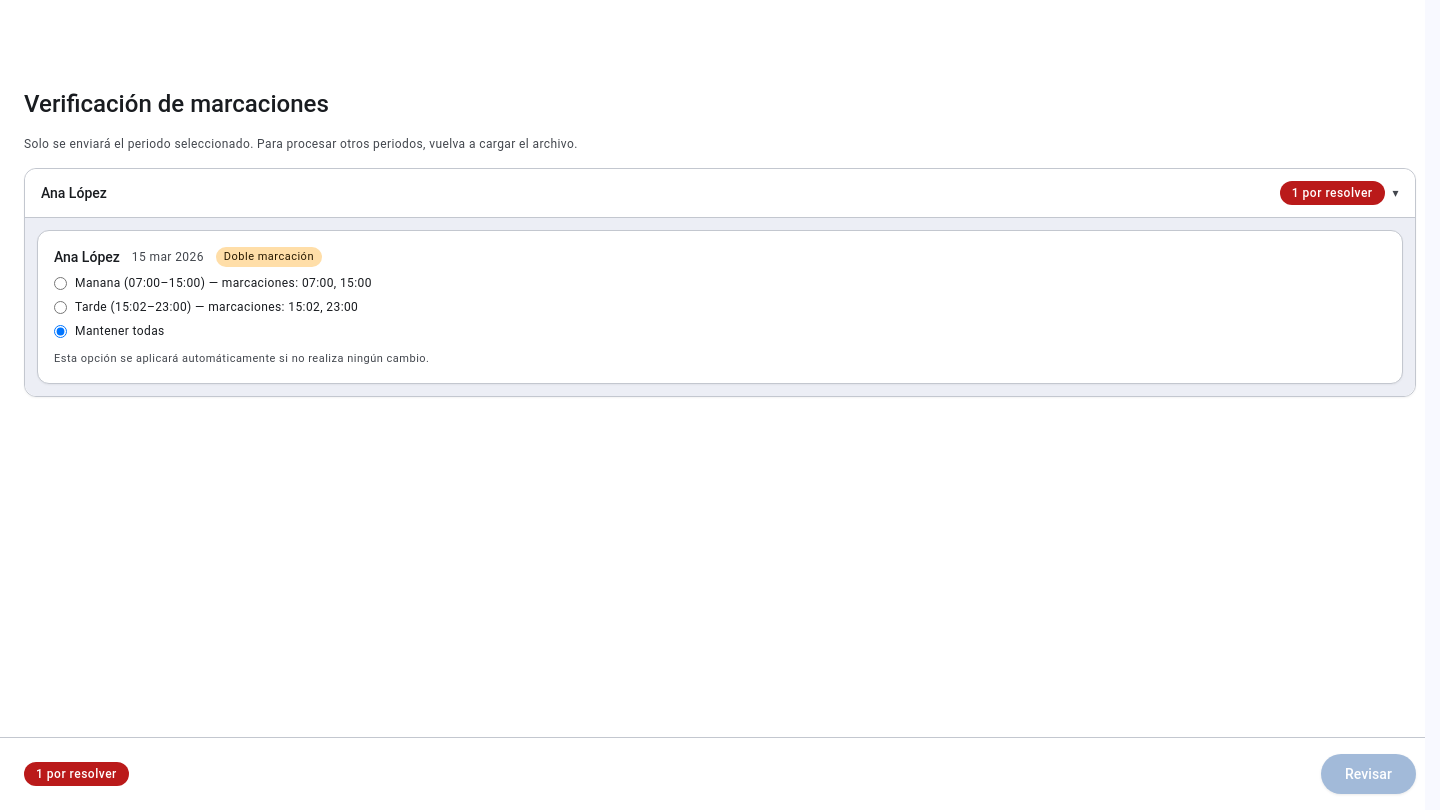
Test case: VerificationScreen same-day double group › Revisar is disabled until same-day-double is resolved
Expected: the button "Revisar" is disabled, [1321, 754, 1416, 794]
Click the radio button labelled "Manana (07:00–15:00) — marcaciones: 07:00, 15:00": (60, 283) [54, 276, 67, 290]
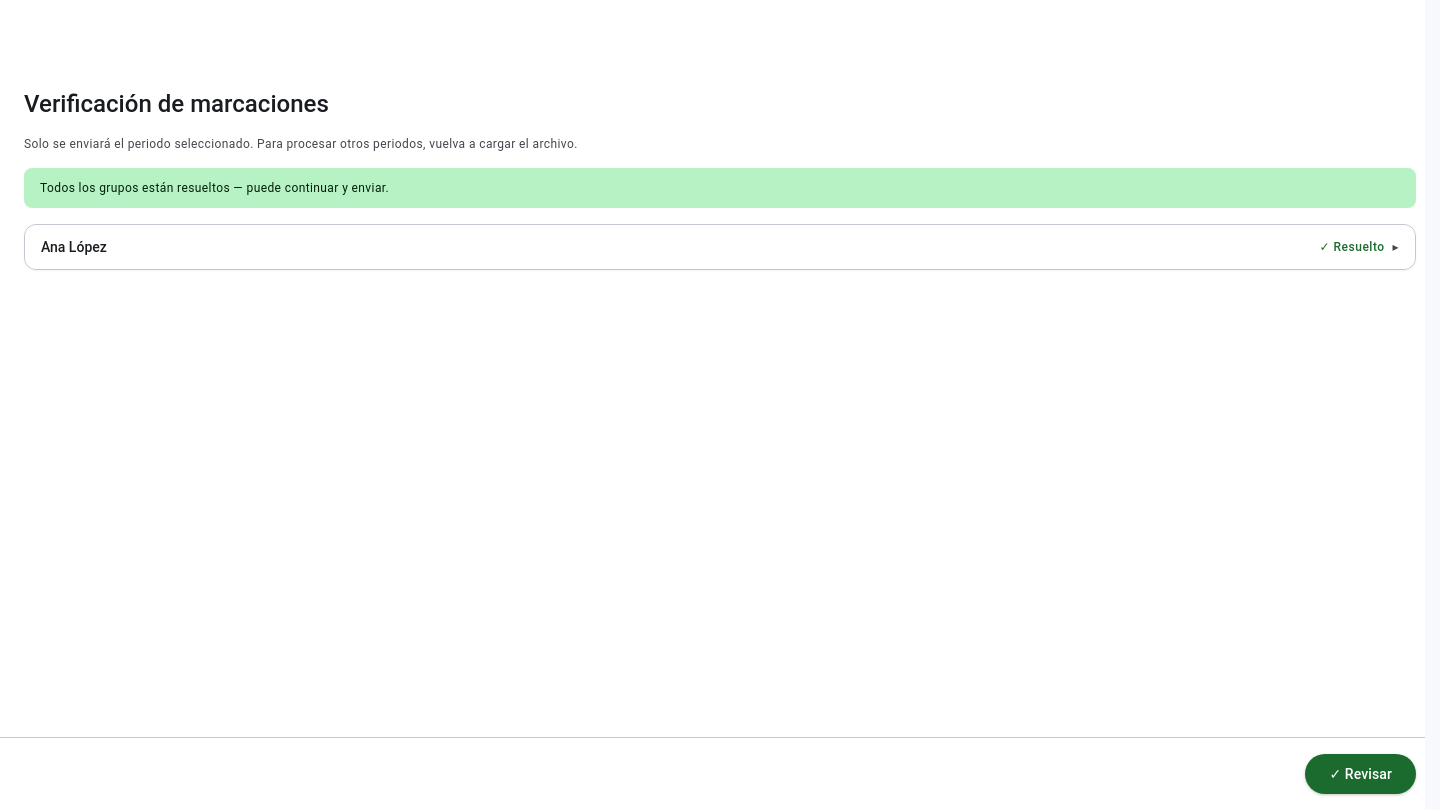
Expected: the button "✓ Revisar" is enabled, [1306, 754, 1416, 794]
